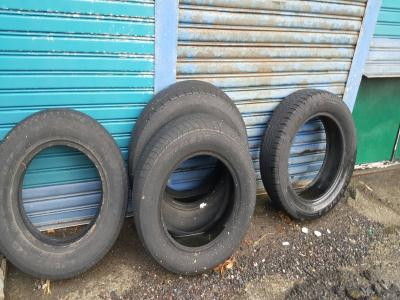tire: (2, 107, 129, 284), (130, 110, 258, 277), (258, 87, 359, 225)
